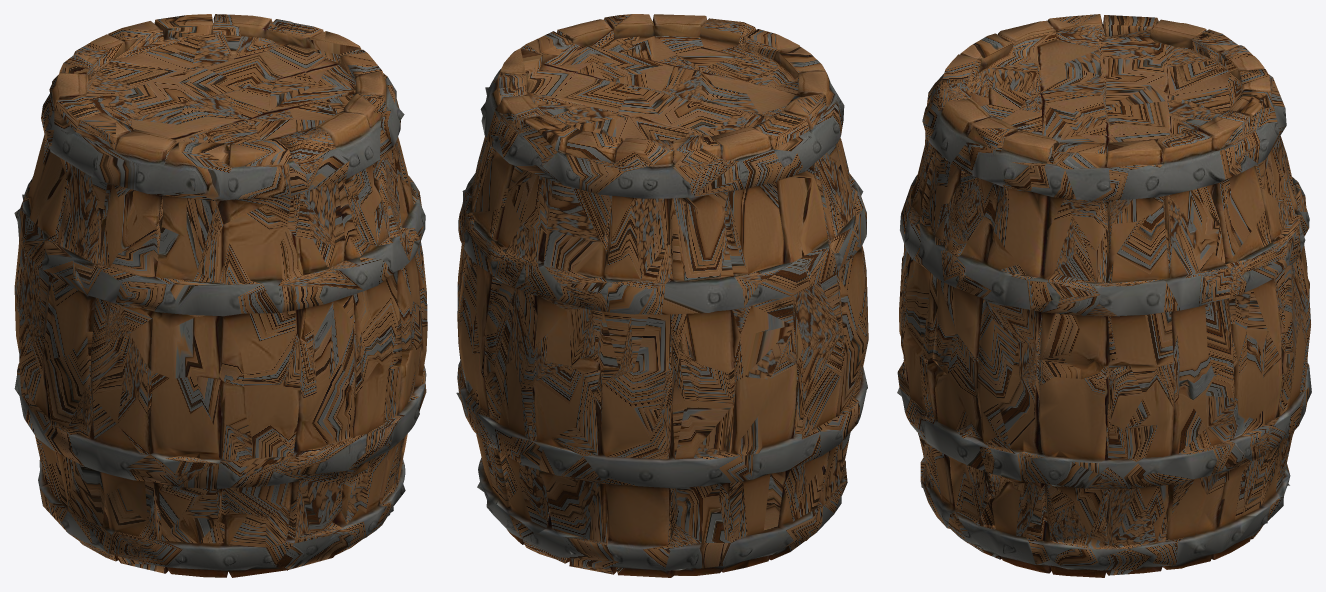
The model's file is wooden_barrel_01.glb.
3 views of the same model, side by side, from view 1: azimuth 30°, elevation 25°; view 2: azimuth 150°, elevation 25°; view 3: azimuth 270°, elevation 25° (orthographic).
Parts seen in each view (by area): view 1: tripo_node_1c2f957a-c94b-47b5-9b93-a12fdc979f6a; view 2: tripo_node_1c2f957a-c94b-47b5-9b93-a12fdc979f6a; view 3: tripo_node_1c2f957a-c94b-47b5-9b93-a12fdc979f6a.
Boxes of the visible parts, x1,y1,x2,y2 form: tripo_node_1c2f957a-c94b-47b5-9b93-a12fdc979f6a: [14, 14, 427, 577]; tripo_node_1c2f957a-c94b-47b5-9b93-a12fdc979f6a: [456, 14, 868, 577]; tripo_node_1c2f957a-c94b-47b5-9b93-a12fdc979f6a: [897, 14, 1311, 577].
Size of the model in its own units: 0.8615 by 0.9802 by 0.861.
1 material, 1 textured.
